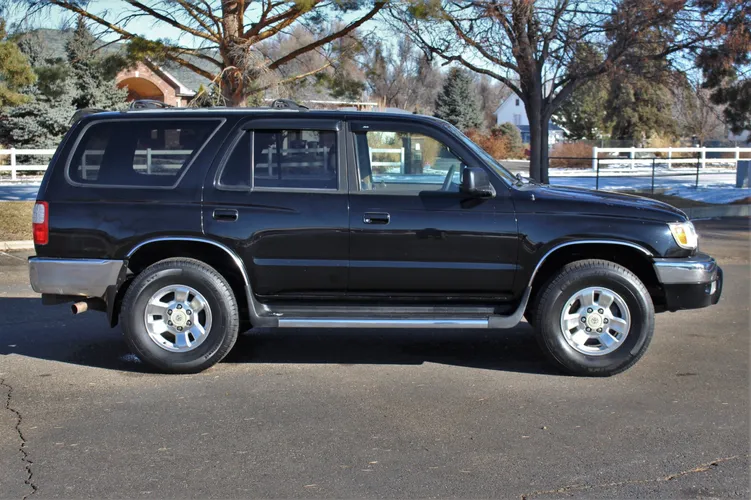car: (24, 94, 728, 378)
